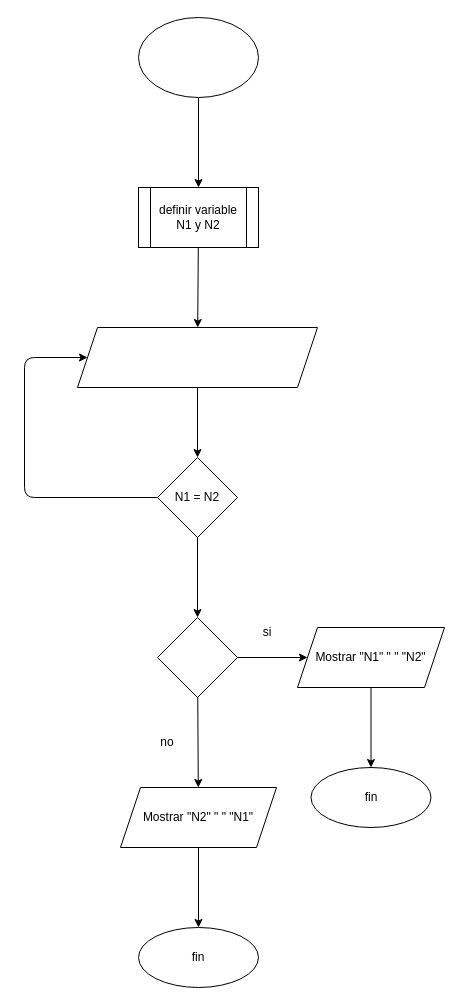
The diagram is 462 pixels wide and 1005 high, and some of its shapes have lost their labels. The centre of each missing label's shape, as x and y in pixels:
"inicio" goes at point (198, 57).
"N1 > N2" goes at point (197, 657).
"solicitar numeros N1 = primer numero ingresado N2 = segundo numero ingresado" goes at point (197, 357).
